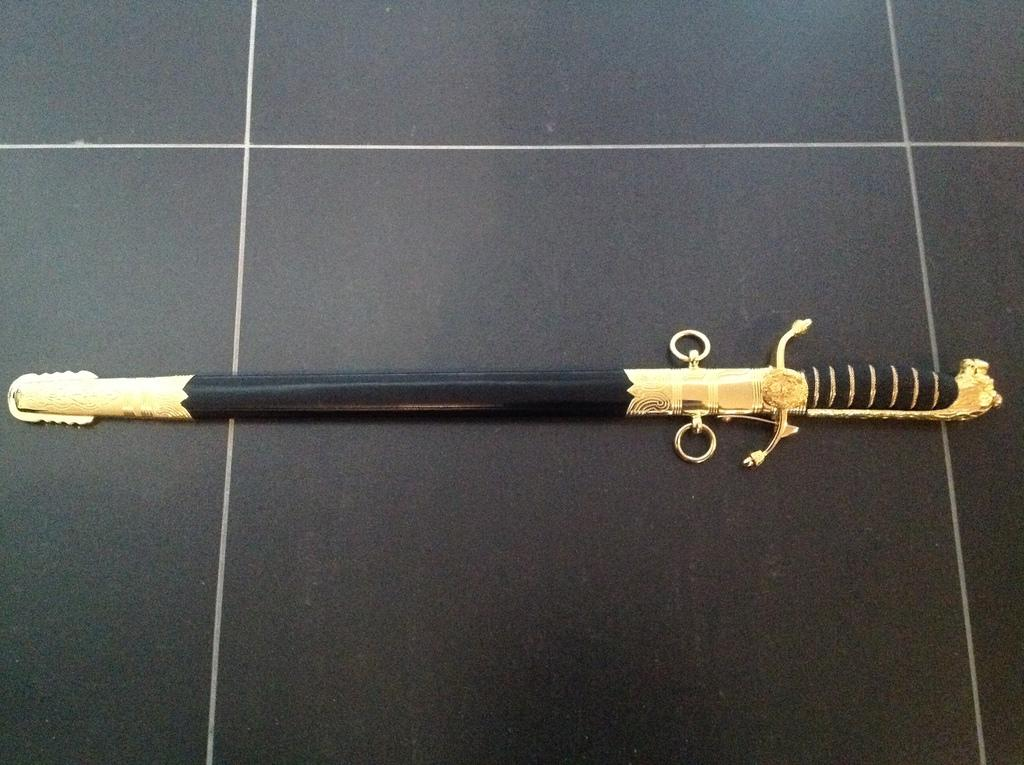Sword: (7, 318, 1003, 467)
